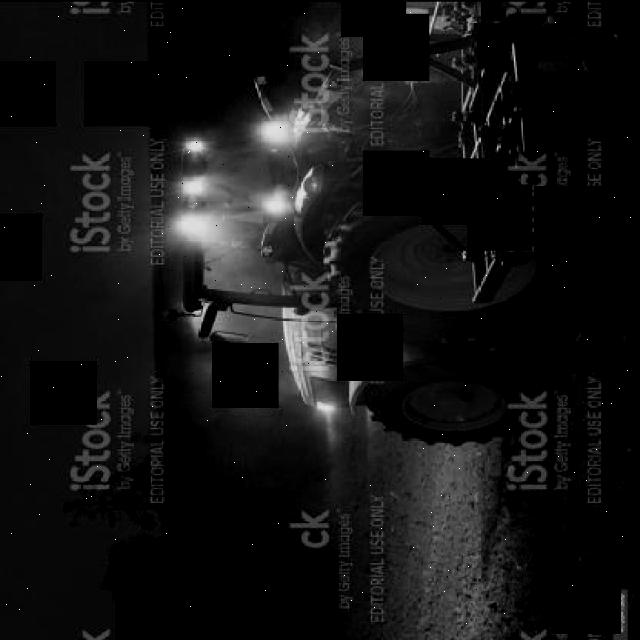Tratores - v5 YOLO V8L 2024-11-13: (146, 1, 639, 462)
